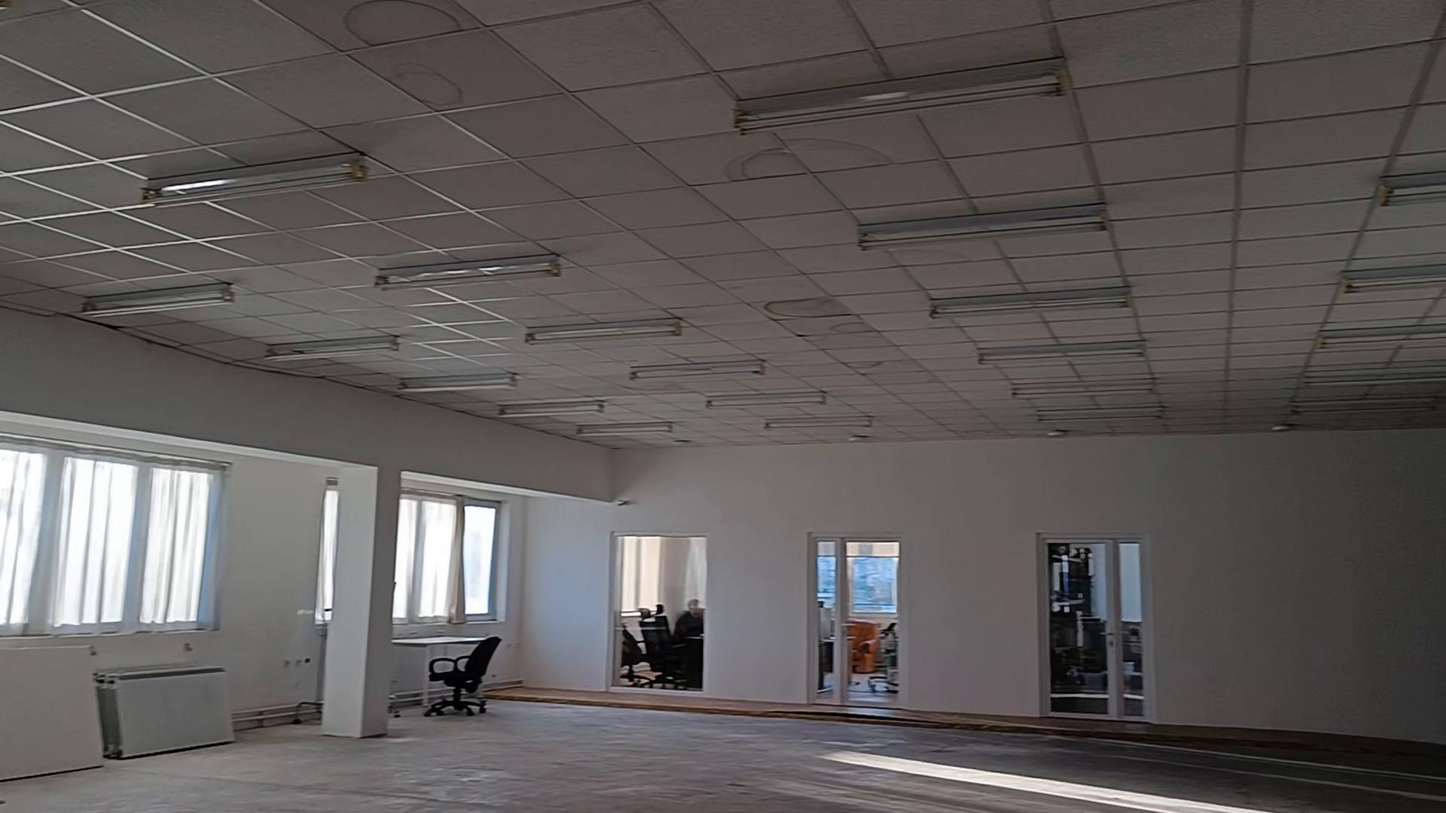ceiling: (0, 0, 1445, 446)
floor: (0, 701, 1445, 812)
wall: (522, 437, 1445, 735), (1, 314, 611, 499), (230, 468, 323, 706), (321, 467, 401, 738)
